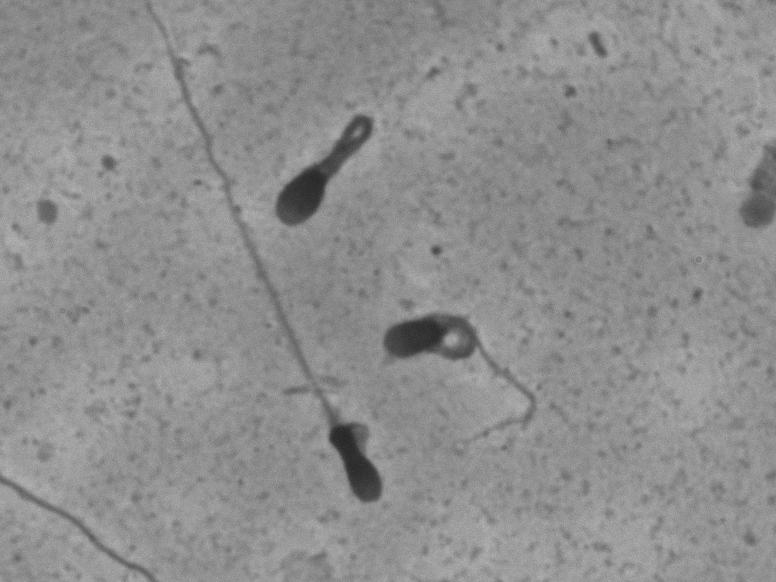Abnormal: (133, 25, 400, 514), (373, 293, 576, 442), (262, 89, 395, 236)
